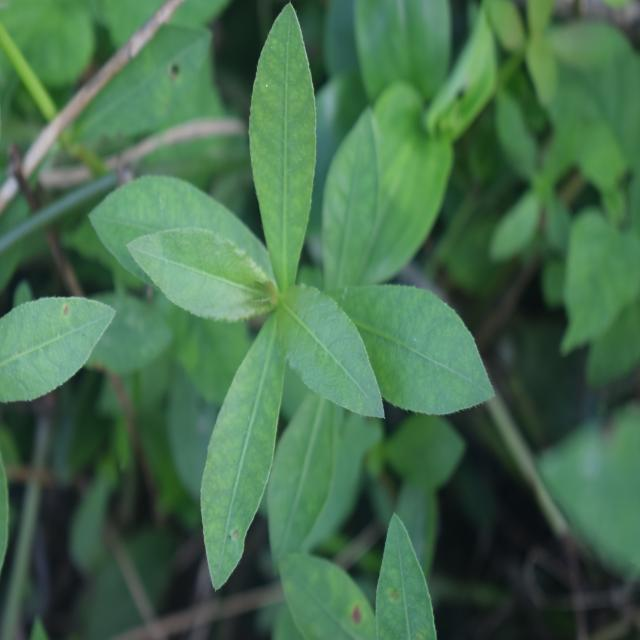Alligatorweed: (106, 47, 451, 562)
